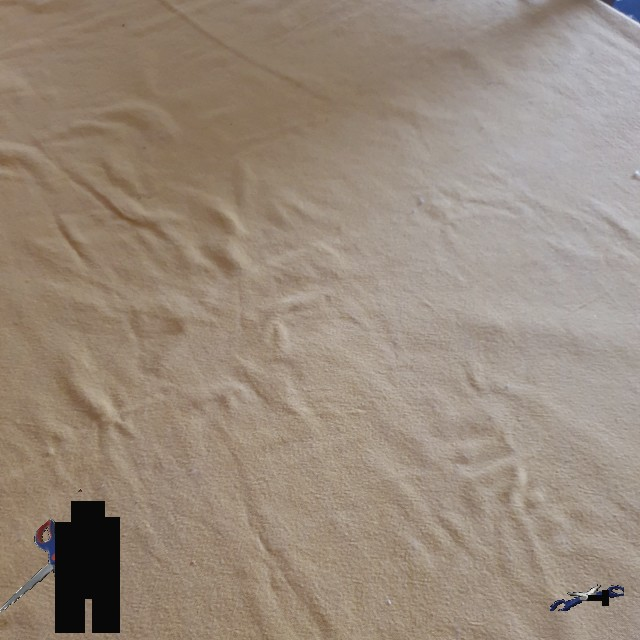scissors: (0, 489, 120, 633), (550, 584, 624, 611)
